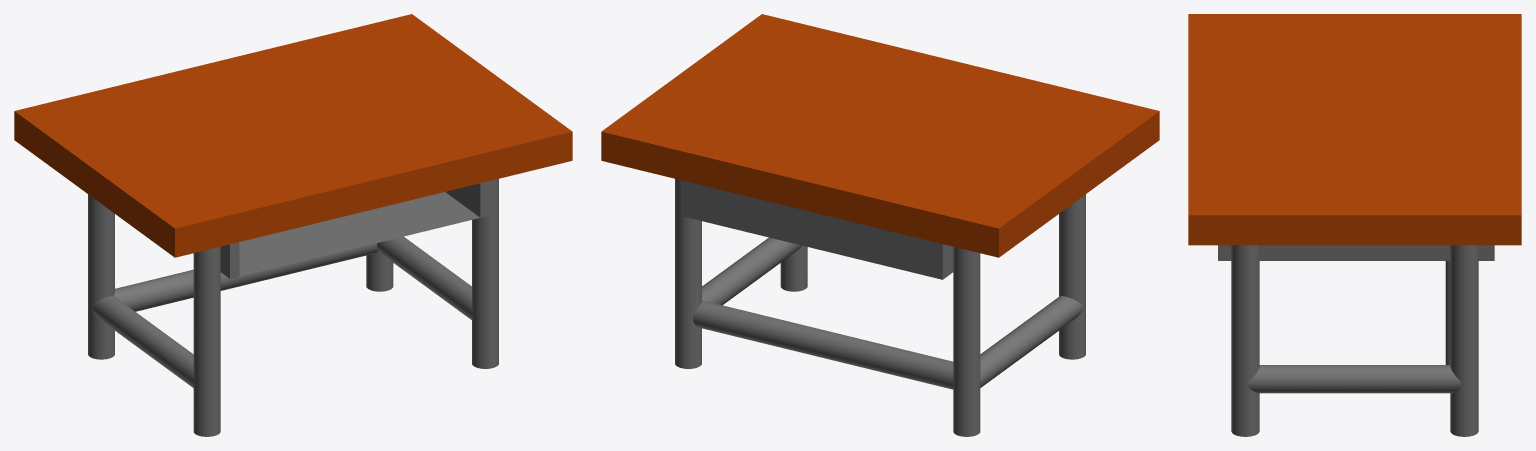
The model's file is desk2.FBX.
3 renders of one model, left to right at view 1: azimuth 30°, elevation 25°; view 2: azimuth 150°, elevation 25°; view 3: azimuth 270°, elevation 25°, orthographic. The views are drawn at different scales.
Parts seen in each view (by area): view 1: Box001, Box002, Cylinder001, Cylinder004, Cylinder005, Cylinder002, Cylinder007, Cylinder006, Cylinder003; view 2: Box001, Box002, Cylinder005, Cylinder002, Cylinder003, Cylinder001, Cylinder007, Cylinder006, Cylinder004; view 3: Box001, Cylinder006, Cylinder003, Cylinder004, Box002, Cylinder005.
Boxes of the visible parts, x1=… form: Box001: x1=14, y1=14, x2=572, y2=257; Box002: x1=220, y1=181, x2=489, y2=278; Cylinder001: x1=193, y1=246, x2=220, y2=436; Cylinder004: x1=472, y1=179, x2=498, y2=368; Cylinder005: x1=114, y1=243, x2=378, y2=311; Cylinder002: x1=88, y1=194, x2=114, y2=359; Cylinder007: x1=91, y1=296, x2=194, y2=387; Cylinder006: x1=377, y1=236, x2=473, y2=319; Cylinder003: x1=366, y1=252, x2=393, y2=291; Box001: x1=601, y1=14, x2=1159, y2=257; Box002: x1=683, y1=181, x2=953, y2=279; Cylinder005: x1=693, y1=300, x2=953, y2=389; Cylinder002: x1=953, y1=246, x2=980, y2=436; Cylinder003: x1=675, y1=179, x2=701, y2=368; Cylinder001: x1=1059, y1=194, x2=1085, y2=359; Cylinder007: x1=980, y1=296, x2=1083, y2=387; Cylinder006: x1=702, y1=237, x2=801, y2=305; Cylinder004: x1=780, y1=245, x2=807, y2=291; Box001: x1=1188, y1=14, x2=1521, y2=245; Cylinder006: x1=1246, y1=365, x2=1460, y2=393; Cylinder003: x1=1450, y1=245, x2=1478, y2=436; Cylinder004: x1=1231, y1=245, x2=1259, y2=436; Box002: x1=1218, y1=245, x2=1494, y2=260; Cylinder005: x1=1445, y1=261, x2=1450, y2=364.
Size of the model in its own units: 12.54 by 7.15 by 8.78.
